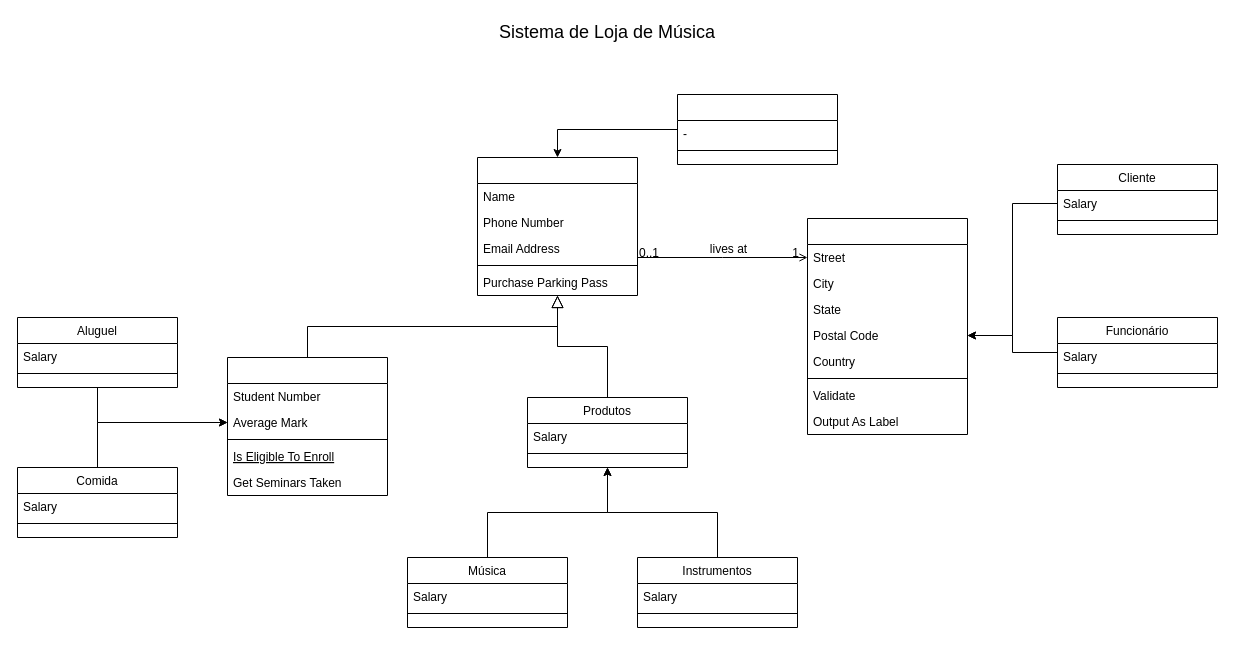
The diagram is 1235 pixels wide and 645 high, and some of its shapes have lost their labels. Here are the shapes that lost their labels. From the top down, the box of each, then its label:
(676, 94, 838, 164): main
(476, 156, 638, 296): Loja
(806, 218, 968, 434): Pessoas
(226, 356, 388, 496): Serviços
